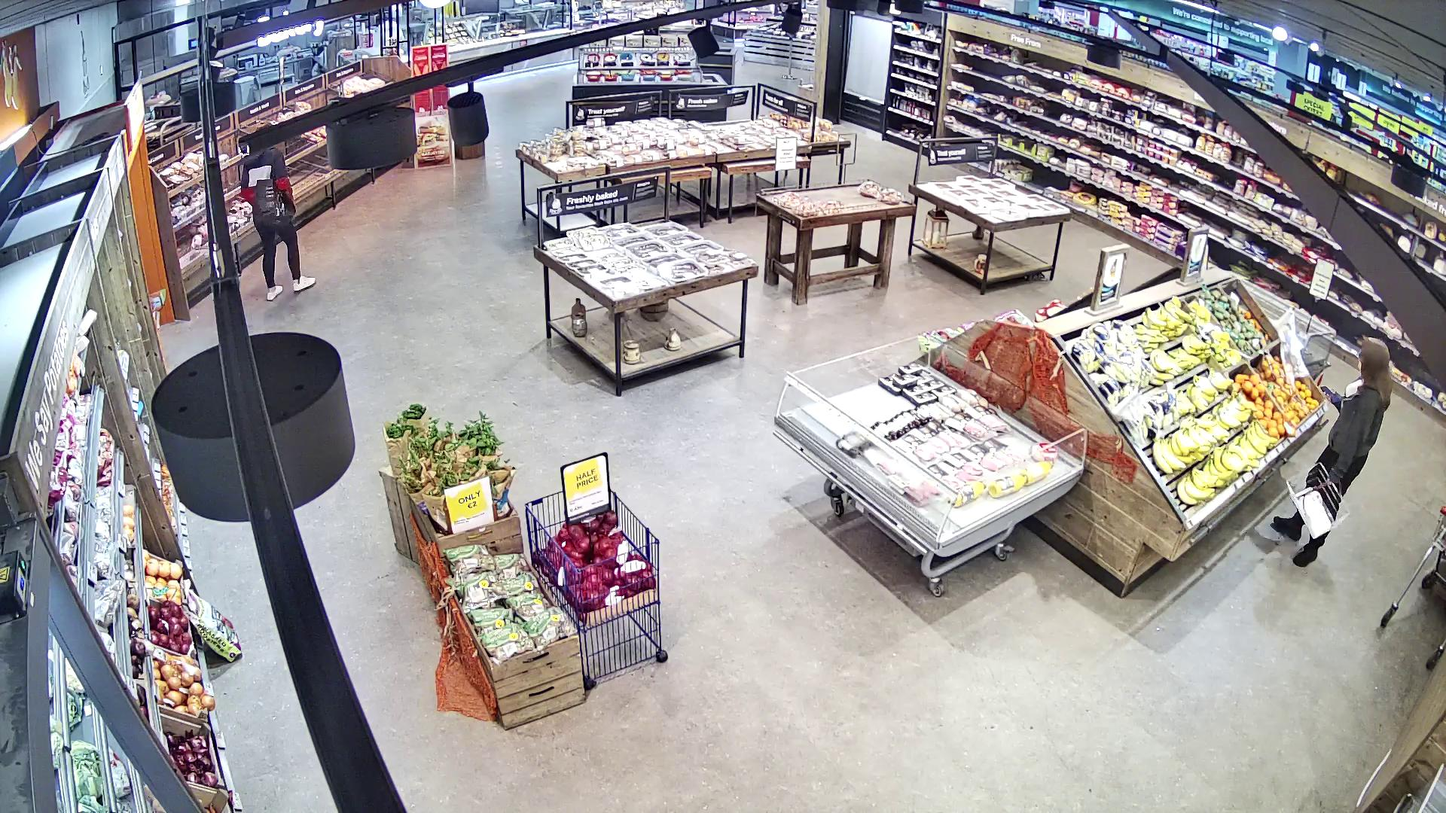empty-basket: (1284, 463, 1348, 539)
filled-shopping-bags: (256, 179, 296, 227)
person: (1274, 336, 1391, 568), (241, 149, 317, 301)
person-with-empty-basket-trolly: (1274, 337, 1391, 567)
person-with-filled-shopping-bag-s-: (241, 148, 316, 302)
